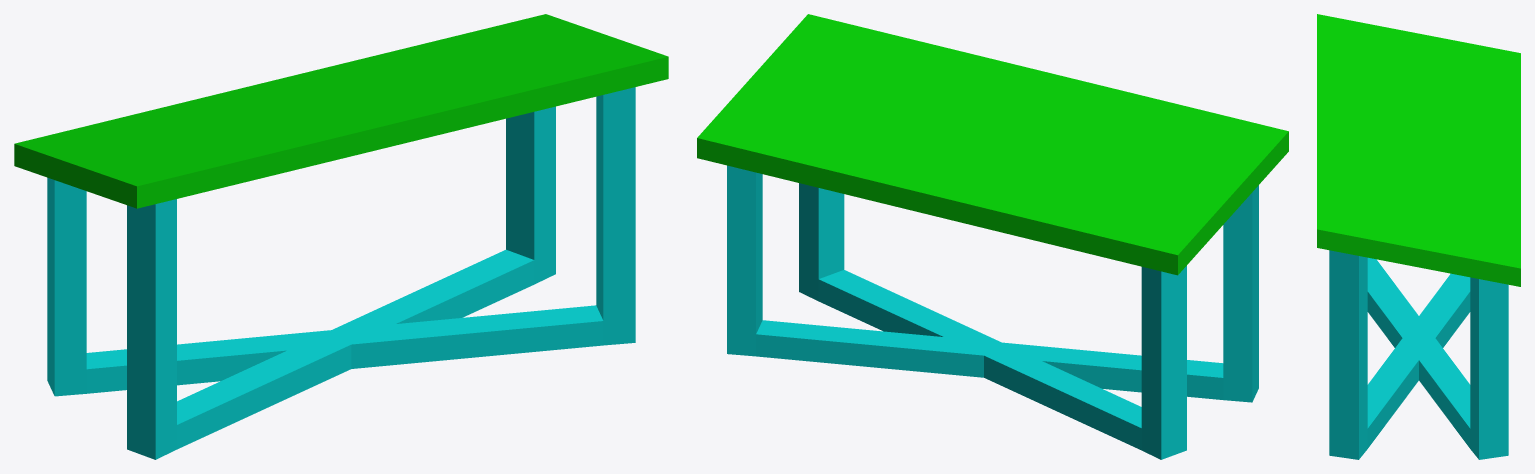
File: Mesa.fbx
3 renders of one model, left to right at view 1: azimuth 30°, elevation 25°; view 2: azimuth 150°, elevation 25°; view 3: azimuth 270°, elevation 25°, orthographic. The views are drawn at different scales.
Parts seen in each view (by area): view 1: Cube.024; view 2: Cube.024; view 3: Cube.024.
Boxes of the visible parts, <box> form: Cube.024: <box>14,14,668,459</box>; Cube.024: <box>697,14,1288,459</box>; Cube.024: <box>1317,14,1520,459</box>.
Bounding box in the file's own units: 2 × 1.03 × 0.8.
